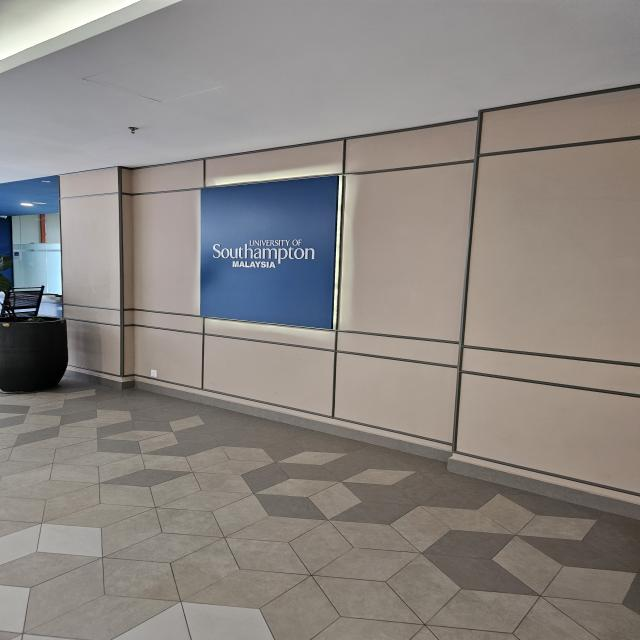footpath: (2, 434, 640, 638)
obstacle: (0, 288, 75, 402)
